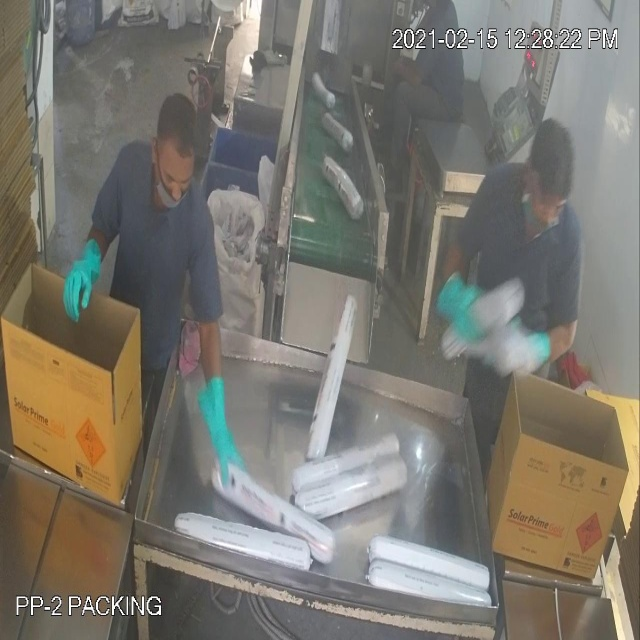Guantes: (186, 363, 262, 493), (427, 252, 500, 349), (54, 226, 116, 337)
Sin_guantes: (376, 37, 443, 91)
